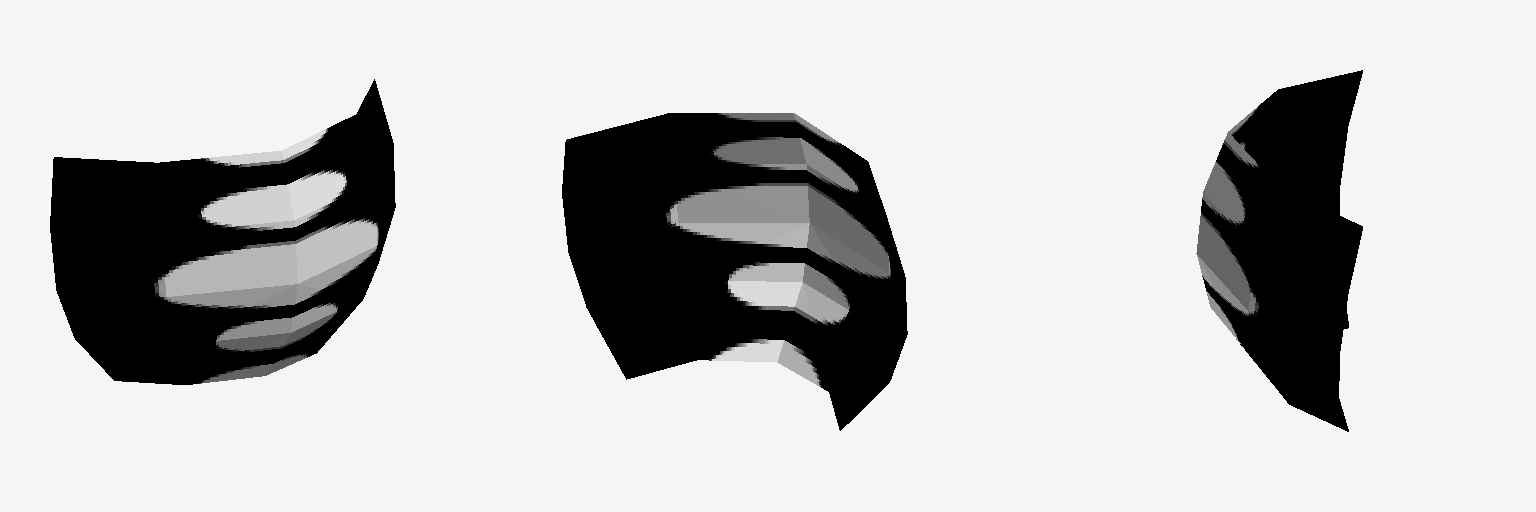
3 renders of one model, left to right at view 1: azimuth 30°, elevation 25°; view 2: azimuth 150°, elevation 25°; view 3: azimuth 270°, elevation 25°, orthographic.
Visible parts, largest first — view 1: polygon0; view 2: polygon0; view 3: polygon0.
Boxes of the visible parts, <box> form: polygon0: <box>50,79,395,384</box>; polygon0: <box>562,113,907,430</box>; polygon0: <box>1196,70,1362,431</box>.
Bounding box in the file's own units: 4.04 × 2.79 × 1.7.
1 materials, 1 textured.